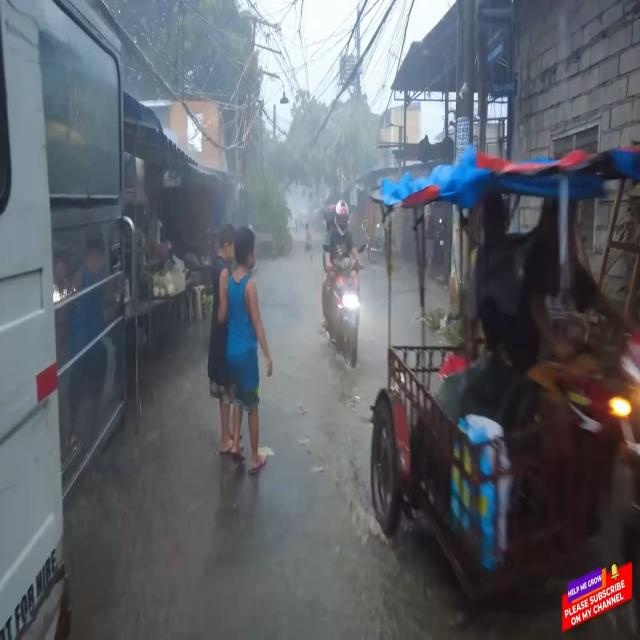full: (333, 197, 351, 237)
